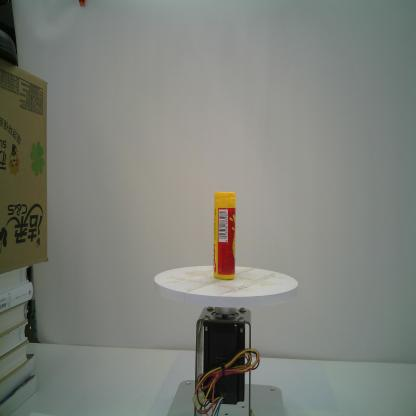Candy: (212, 190, 238, 282)
